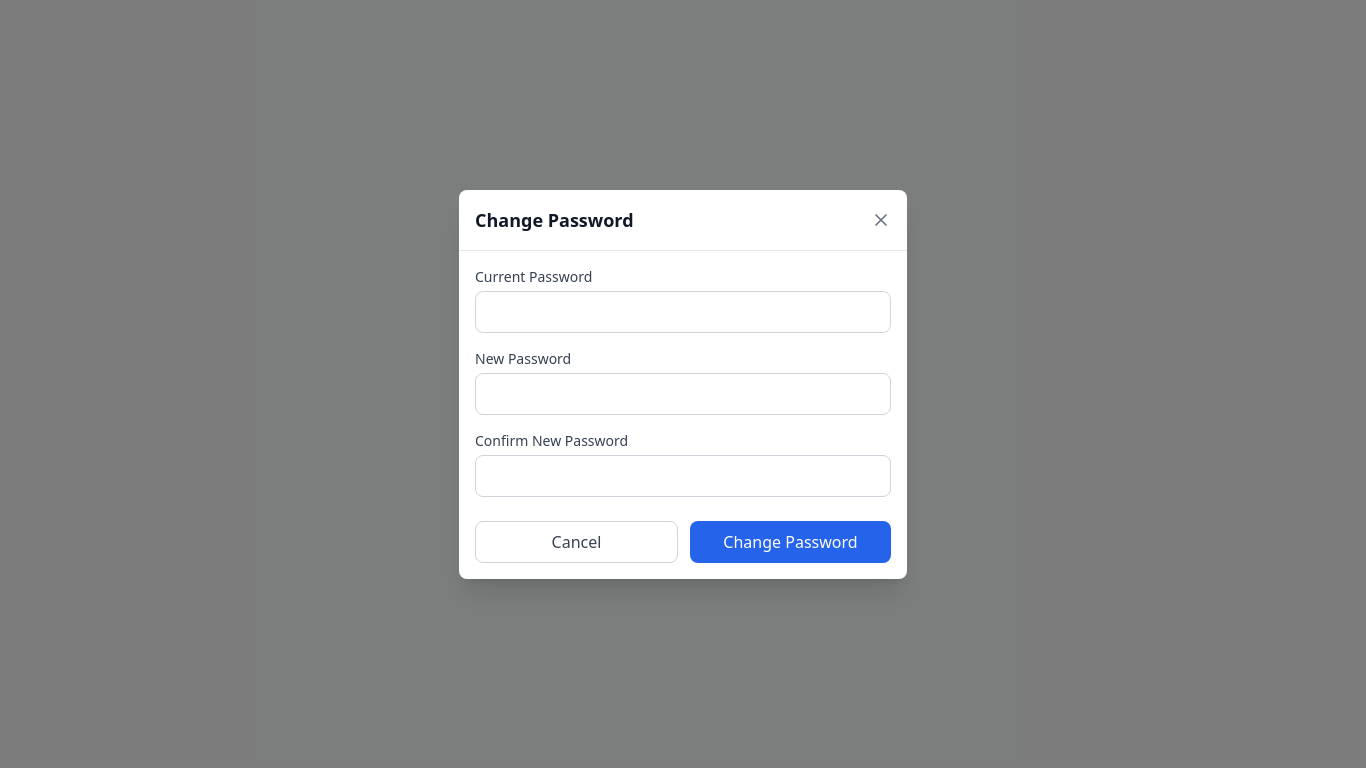
Test: PasswordChangeModal › shows error for short password
Type "oldpass" into the password field labelled "Current Password".
click(683, 312); type("oldpass")  # box [475, 290, 891, 332]
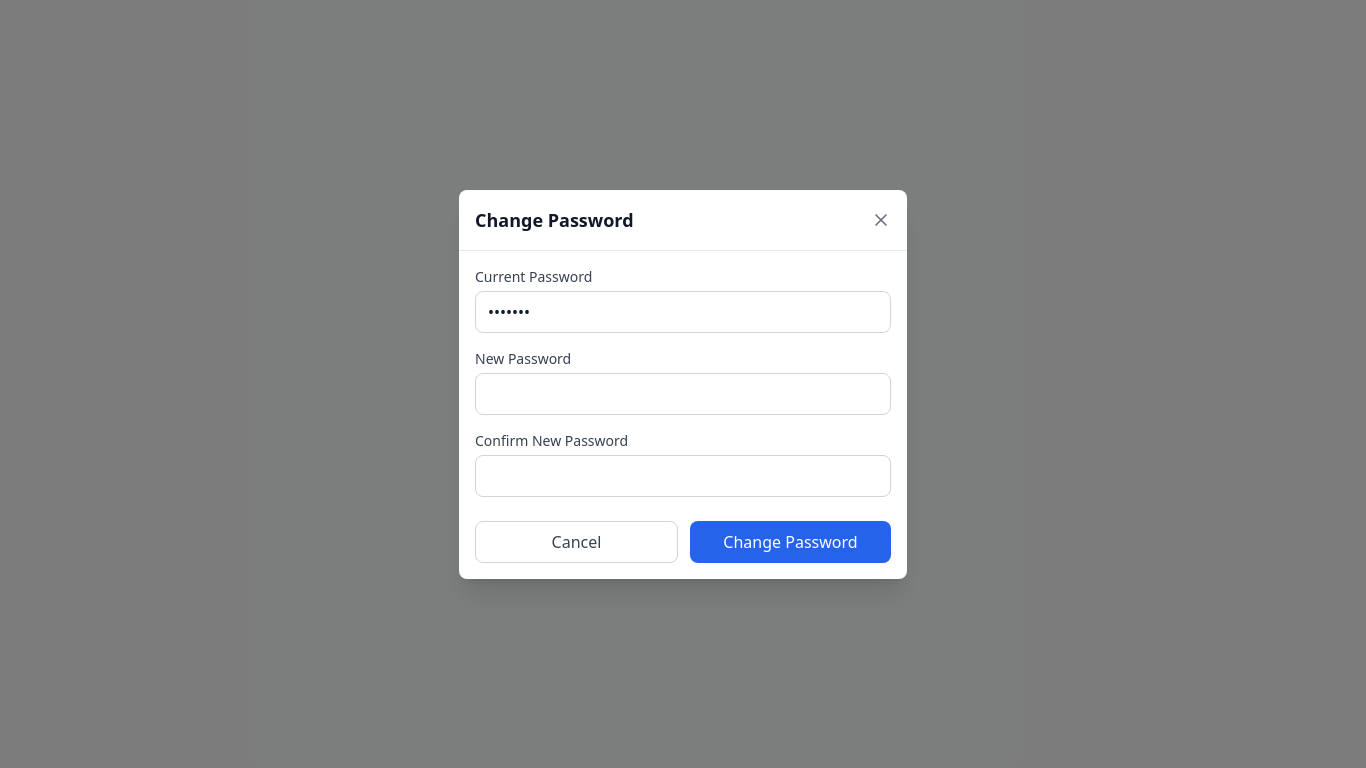
Type "short" into the password field labelled "New Password".
click(683, 394); type("short")  # box [475, 372, 891, 414]
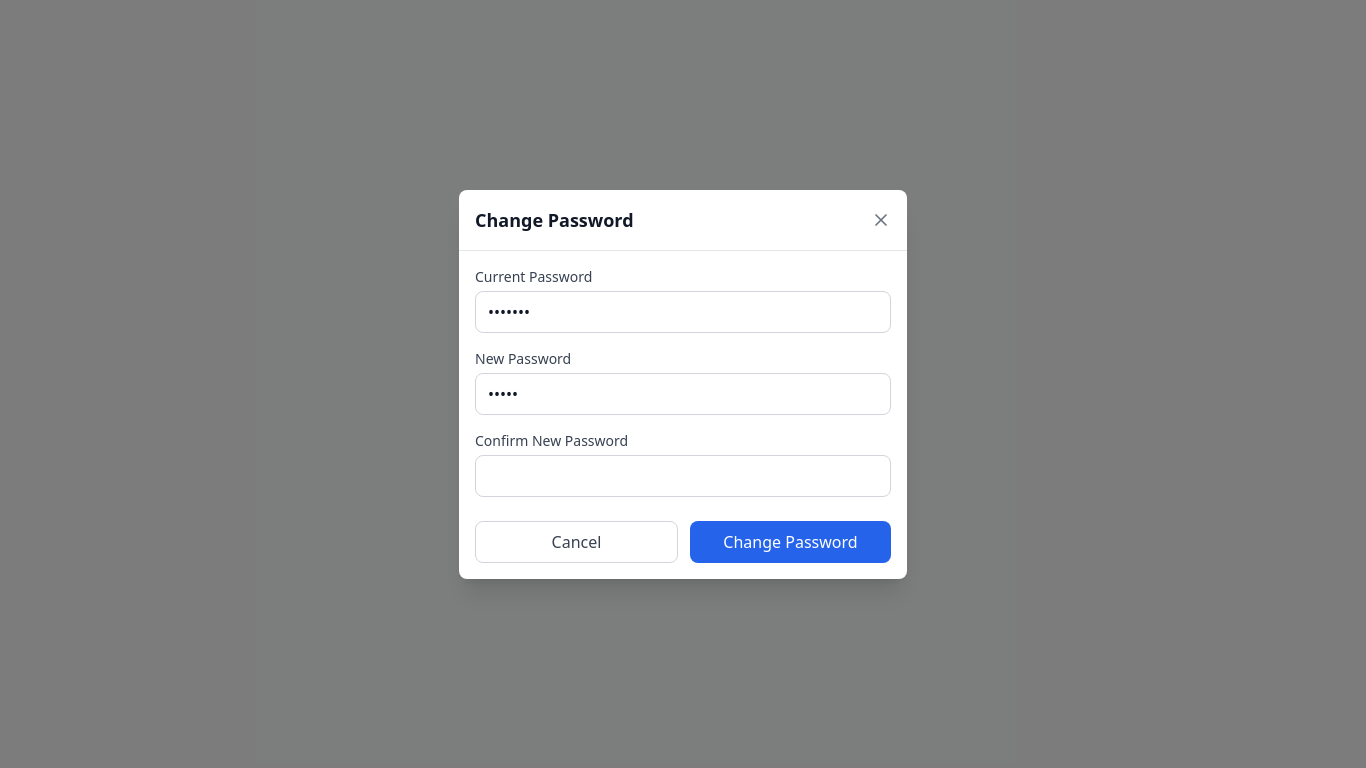
Type "short" into the password field labelled "Confirm New Password".
click(683, 476); type("short")  # box [475, 454, 891, 496]
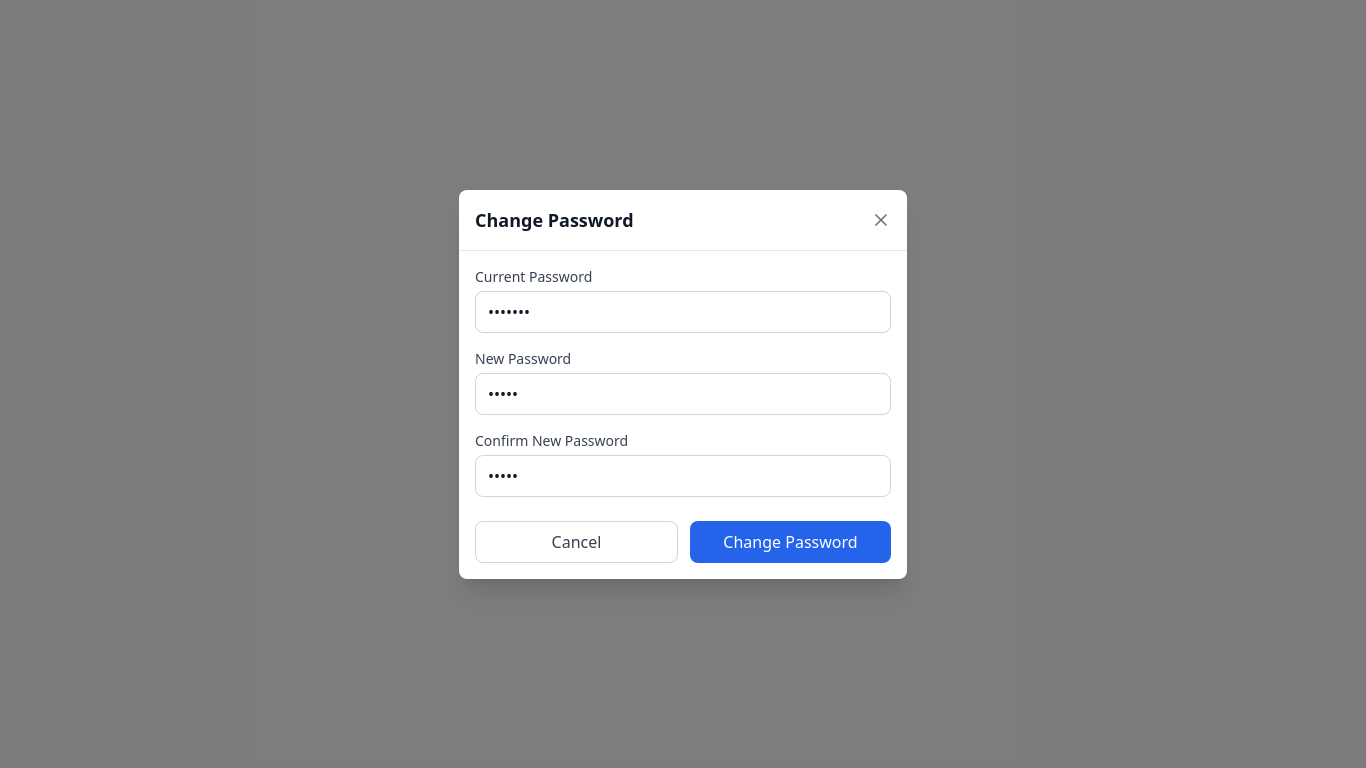
Click the button "Change Password".
click(790, 542)  # box [690, 520, 891, 562]
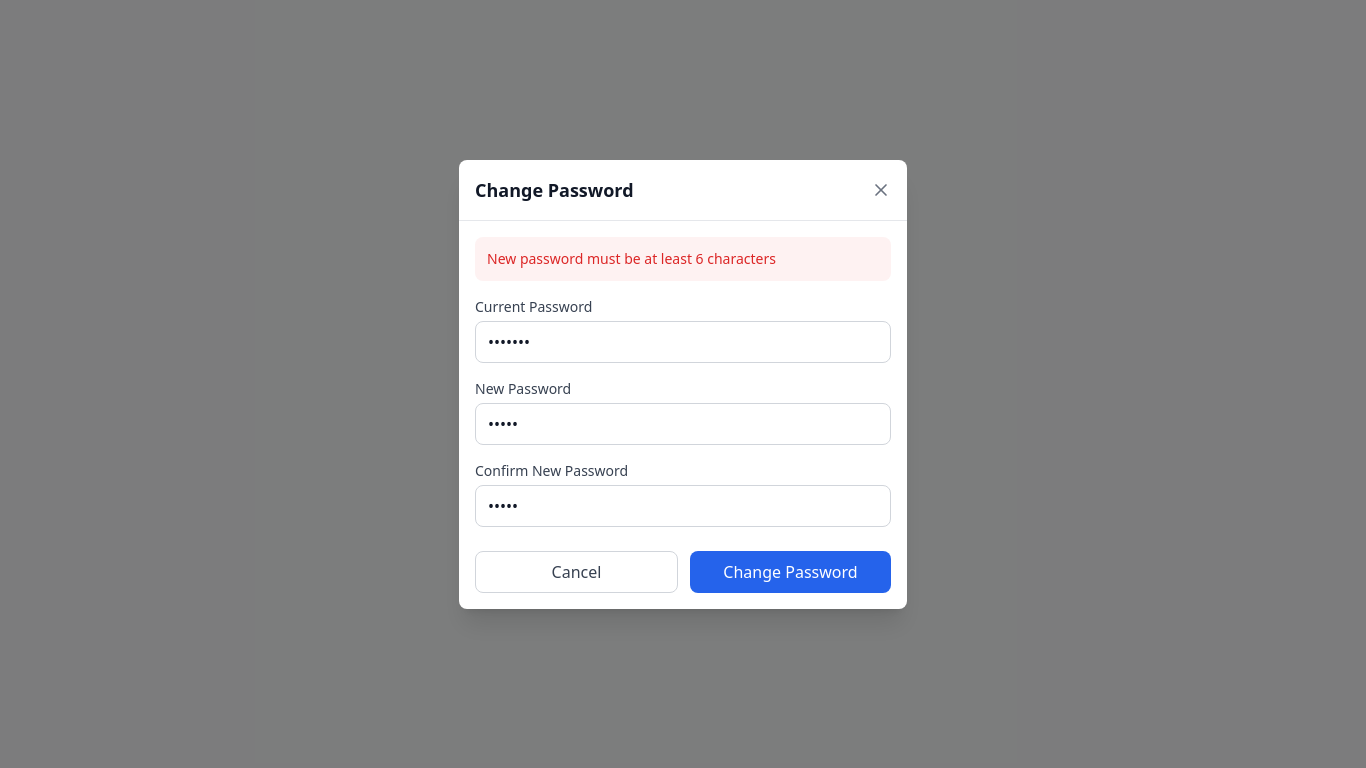
Result: the text "New password must be at least 6 characters" is shown at [475, 236, 891, 280]
